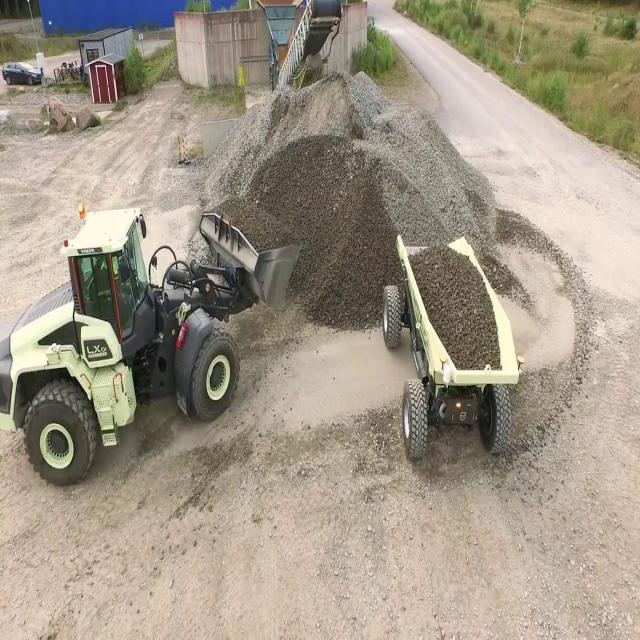Dump Truck: (382, 231, 522, 456)
Loader: (0, 195, 301, 485)
